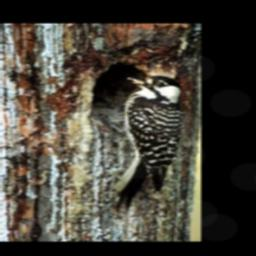Woodpecker: (111, 73, 182, 211)
